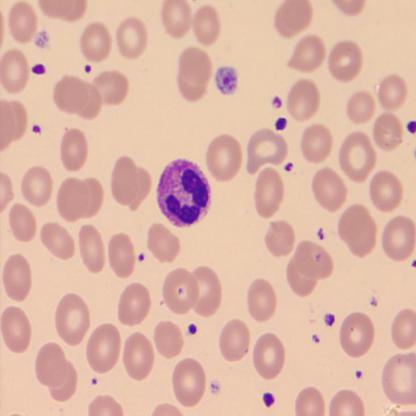Segmented neutrophil: (155, 156, 213, 229)
